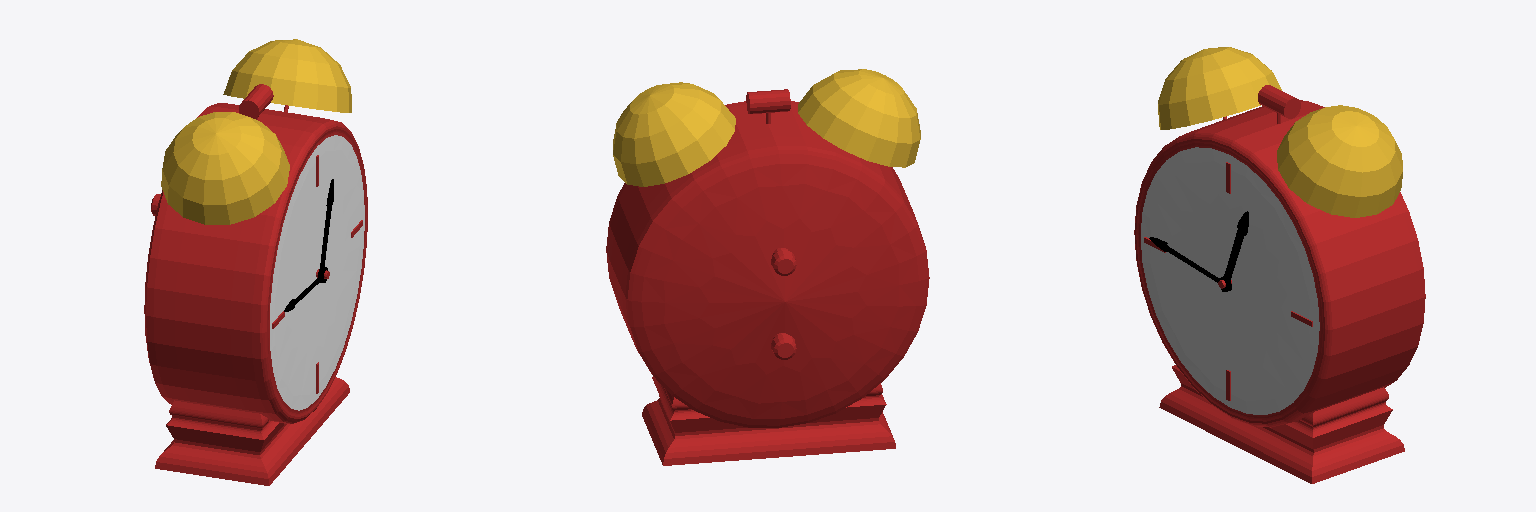
The model's file is Alarm Clock.obj.
The picture shows the model from 3 angles: view 1: azimuth 30°, elevation 25°; view 2: azimuth 150°, elevation 25°; view 3: azimuth 270°, elevation 25°; orthographic projection.
Parts seen in each view (by area): view 1: Cylinder05, Sphere02, Rectangle03, Sphere03, Cylinder06; view 2: Cylinder05, Rectangle03, Sphere03, Sphere02, Cylinder06, Cylinder06_1, Cylinder07; view 3: Cylinder05, Rectangle03, Sphere03, Sphere02, Cylinder06, Circle05.
Part boxes in pixels (bbox=[...]): Cylinder05: bbox=[144, 103, 367, 423]; Sphere02: bbox=[161, 112, 289, 224]; Rectangle03: bbox=[155, 377, 349, 485]; Sphere03: bbox=[223, 39, 351, 112]; Cylinder06: bbox=[239, 84, 273, 118]; Cylinder05: bbox=[606, 101, 929, 427]; Rectangle03: bbox=[642, 376, 895, 465]; Sphere03: bbox=[613, 82, 735, 186]; Sphere02: bbox=[798, 69, 920, 167]; Cylinder06: bbox=[746, 89, 790, 113]; Cylinder06_1: bbox=[771, 248, 796, 275]; Cylinder07: bbox=[771, 333, 796, 359]; Cylinder05: bbox=[1134, 100, 1425, 427]; Rectangle03: bbox=[1159, 365, 1404, 483]; Sphere03: bbox=[1277, 105, 1402, 217]; Sphere02: bbox=[1158, 47, 1281, 129]; Cylinder06: bbox=[1258, 85, 1300, 118]; Circle05: bbox=[1220, 211, 1248, 290].
Size of the model in its own units: 190 by 233 by 176.